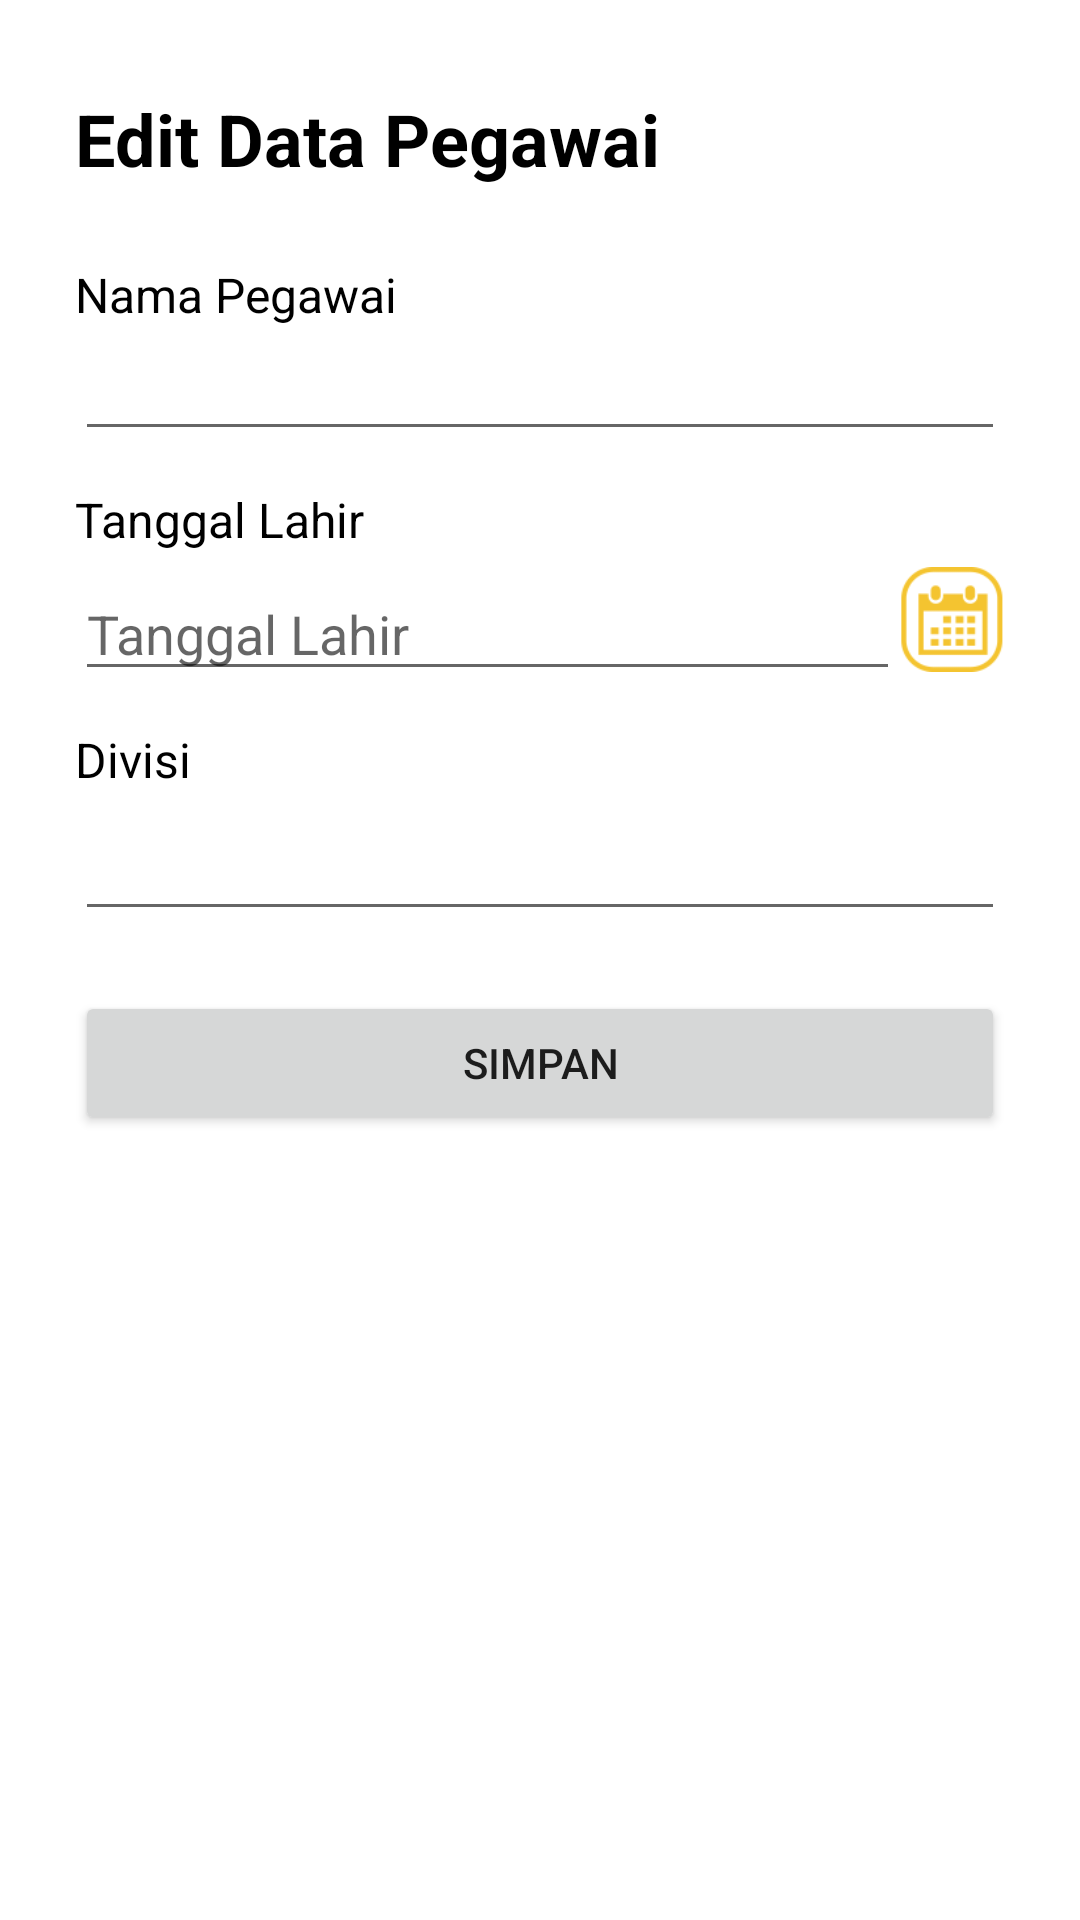

Named icons in this screenshot (1080x1920) and their centers, (x=x, y=y):
calender: (x=952, y=619)
